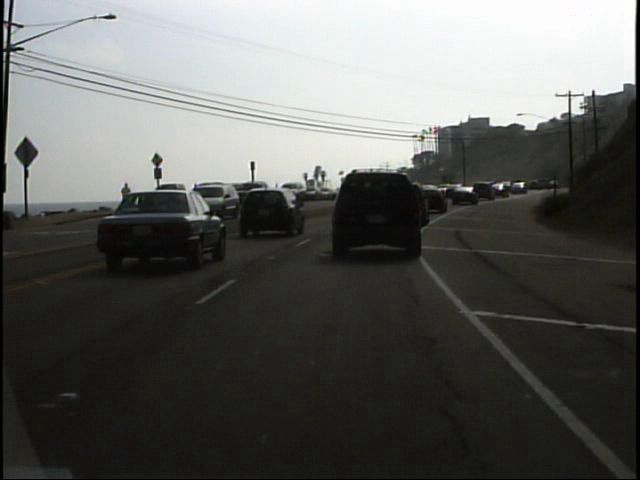person: (119, 180, 136, 215)
